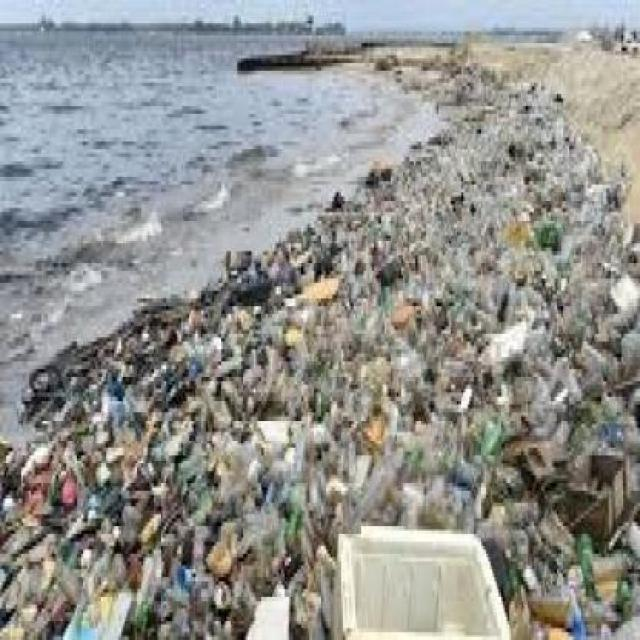garbage: (76, 329, 639, 518), (28, 496, 319, 630)
